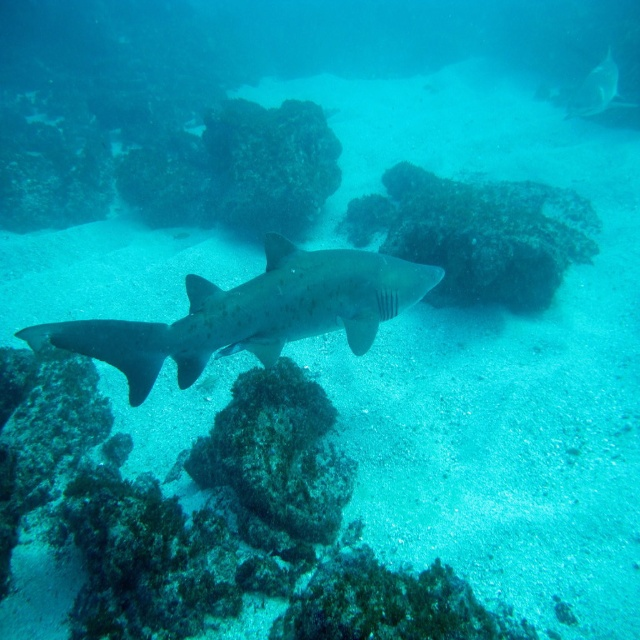Shark: (16, 224, 448, 402)
